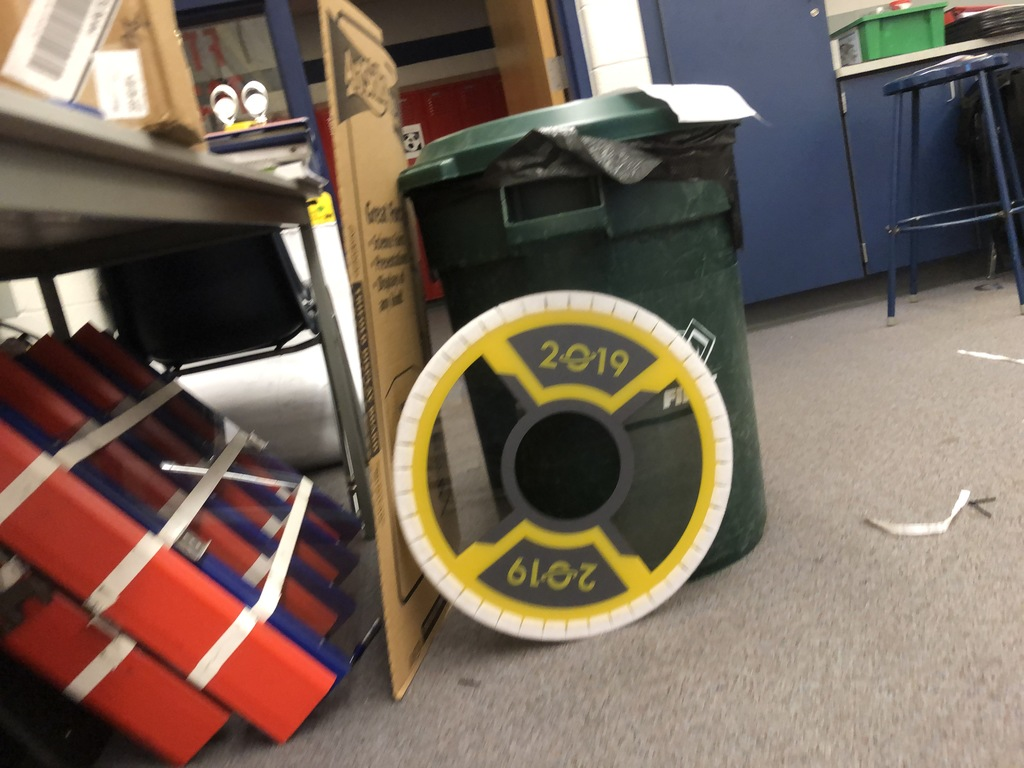hatch_panel: (379, 281, 764, 671)
